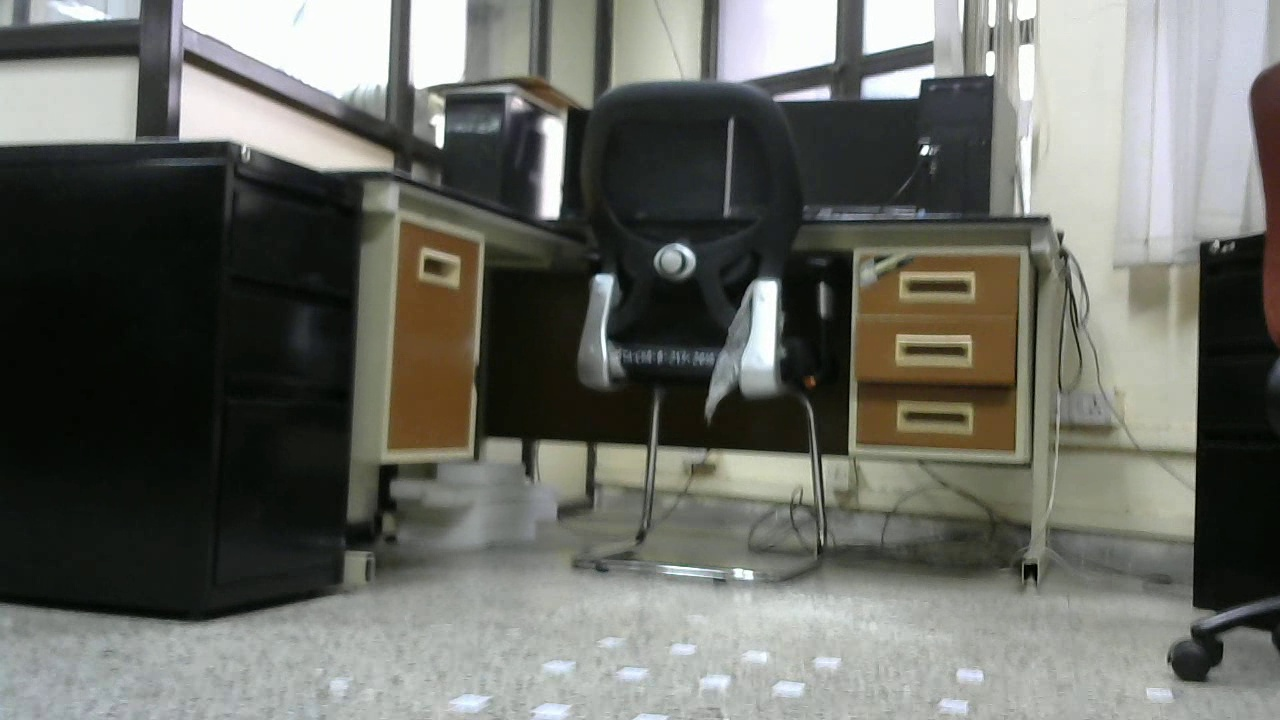chair: (572, 87, 824, 584)
